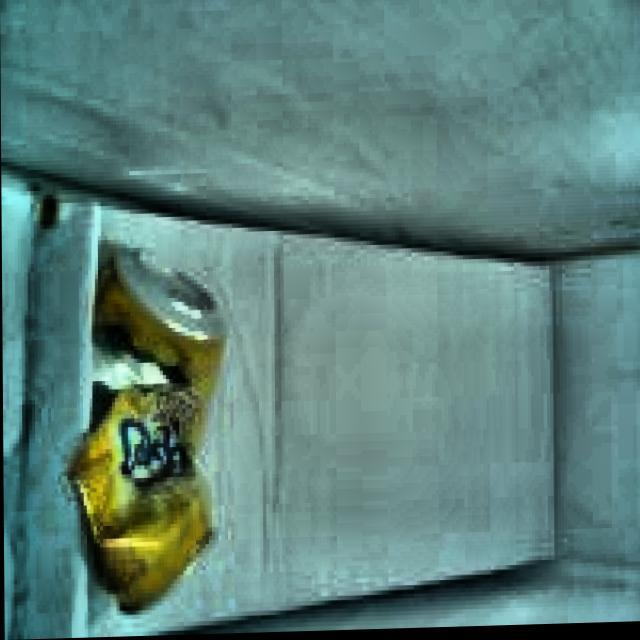can: (84, 259, 215, 589)
